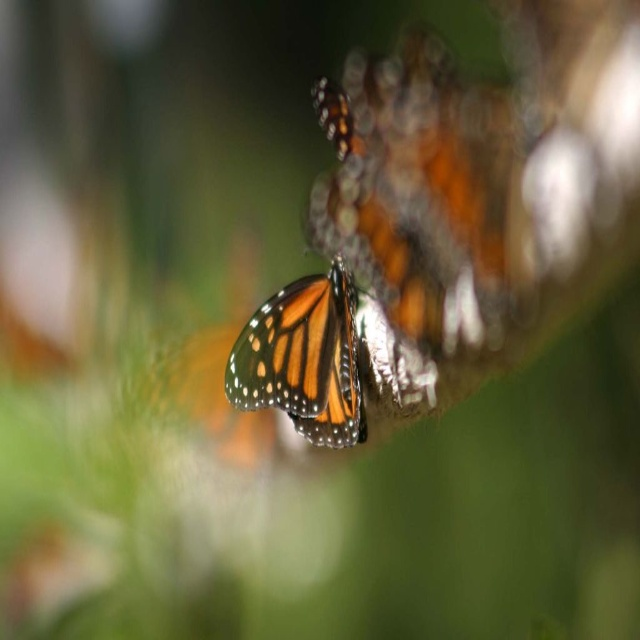Butterfly: (229, 248, 397, 453)
